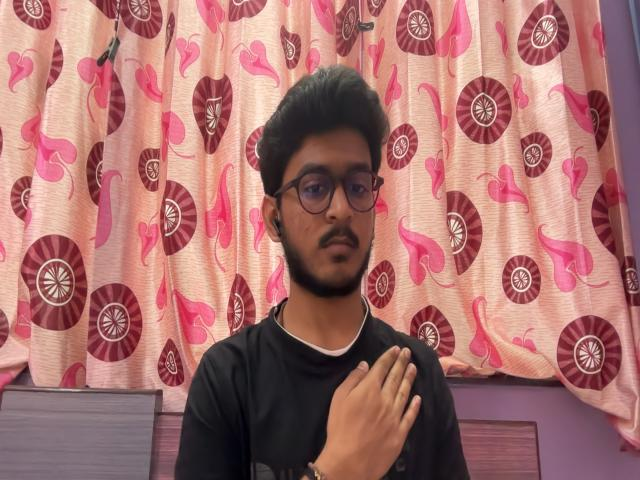Please: (312, 340, 430, 480)
